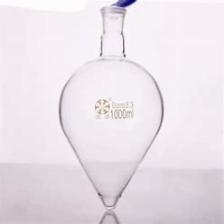Pear shaped flask: (55, 9, 166, 213)
